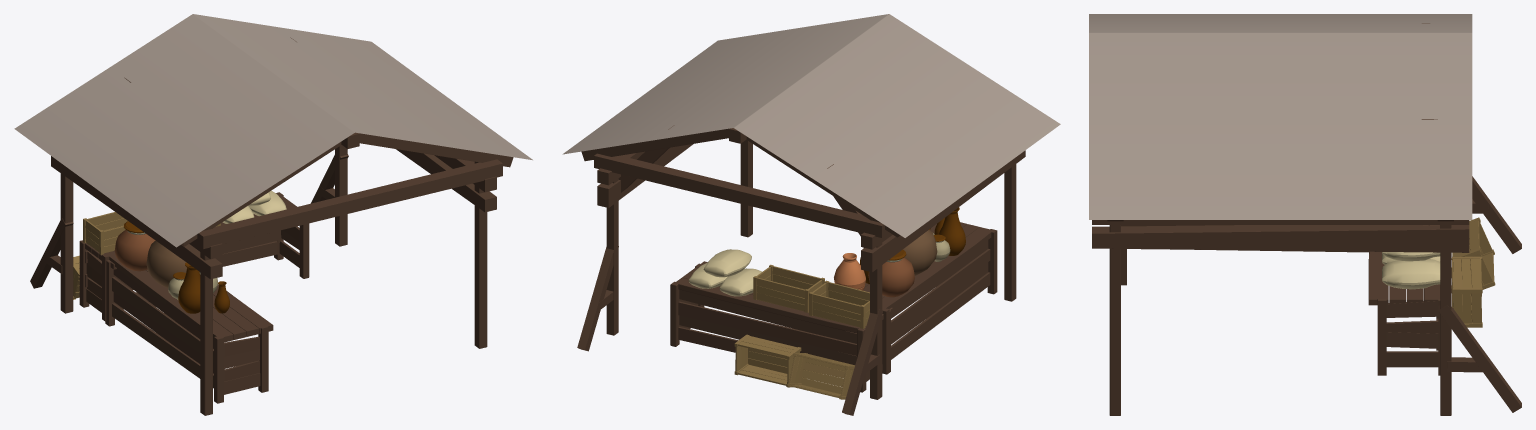
The model's file is EssentialsShop.fbx.
3 renders of one model, left to right at view 1: azimuth 30°, elevation 25°; view 2: azimuth 150°, elevation 25°; view 3: azimuth 270°, elevation 25°, orthographic. The views are drawn at different scales.
Parts seen in each view (by area): view 1: Cube.065; view 2: Cube.065; view 3: Cube.065.
Part boxes in pixels (bbox=[...]): Cube.065: bbox=[14, 14, 532, 415]; Cube.065: bbox=[562, 14, 1060, 415]; Cube.065: bbox=[1089, 14, 1521, 415].
Bounding box in the file's own units: 4.43 × 3.02 × 3.93.
